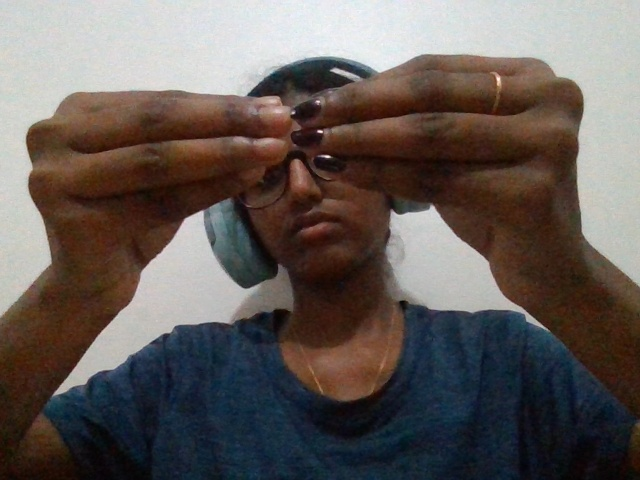More: (10, 30, 616, 424)
